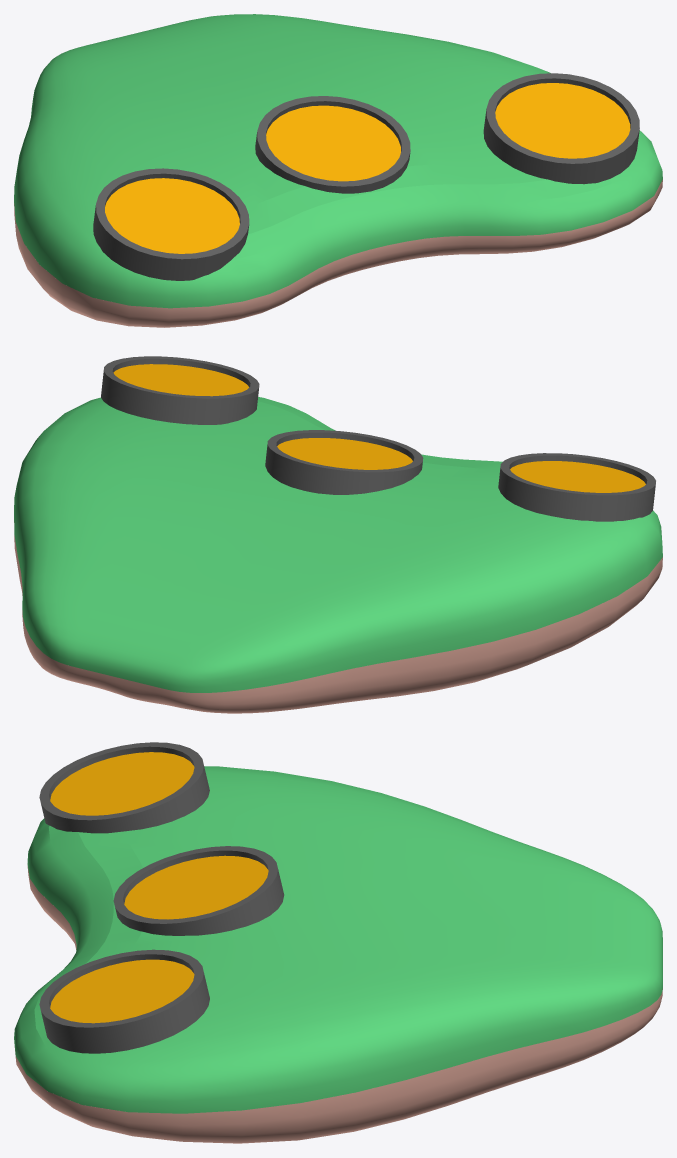
File: WEB3_MENU(1MESH)_MAIN.gltf
3 views of the same model, one above another, from view 1: azimuth 30°, elevation 25°; view 2: azimuth 150°, elevation 25°; view 3: azimuth 270°, elevation 25° (orthographic). The views are drawn at different scales.
Visible parts, largest first — view 1: Platform; view 2: Platform; view 3: Platform.
Boxes of the visible parts, x1=… form: Platform: x1=14, y1=14, x2=662, y2=327; Platform: x1=14, y1=356, x2=662, y2=713; Platform: x1=14, y1=742, x2=662, y2=1143.
Bounding box in the file's own units: 3.46 × 0.786 × 3.09.
